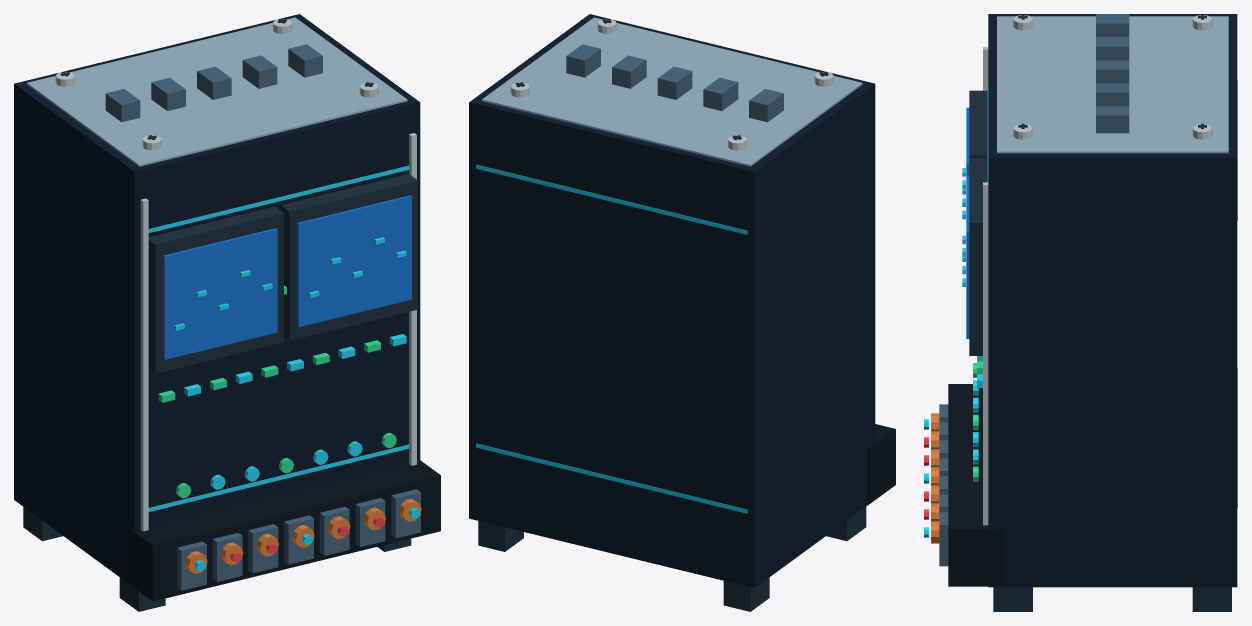
File: 30_L76_ElectrochemicalPotentialController.fbx
The picture shows the model from 3 angles, left to right: view 1: azimuth 30°, elevation 25°; view 2: azimuth 150°, elevation 25°; view 3: azimuth 270°, elevation 25°; orthographic projection. The views are drawn at different scales.
Parts seen in each view (by area): view 1: ElectrochemicalPotentialController; view 2: ElectrochemicalPotentialController; view 3: ElectrochemicalPotentialController.
Boxes of the visible parts, left/top/right/bottom form: ElectrochemicalPotentialController: left=14, top=14, right=440, bottom=611; ElectrochemicalPotentialController: left=469, top=14, right=895, bottom=611; ElectrochemicalPotentialController: left=924, top=14, right=1237, bottom=611.
Bounding box in the file's own units: 113 × 173 × 103.
